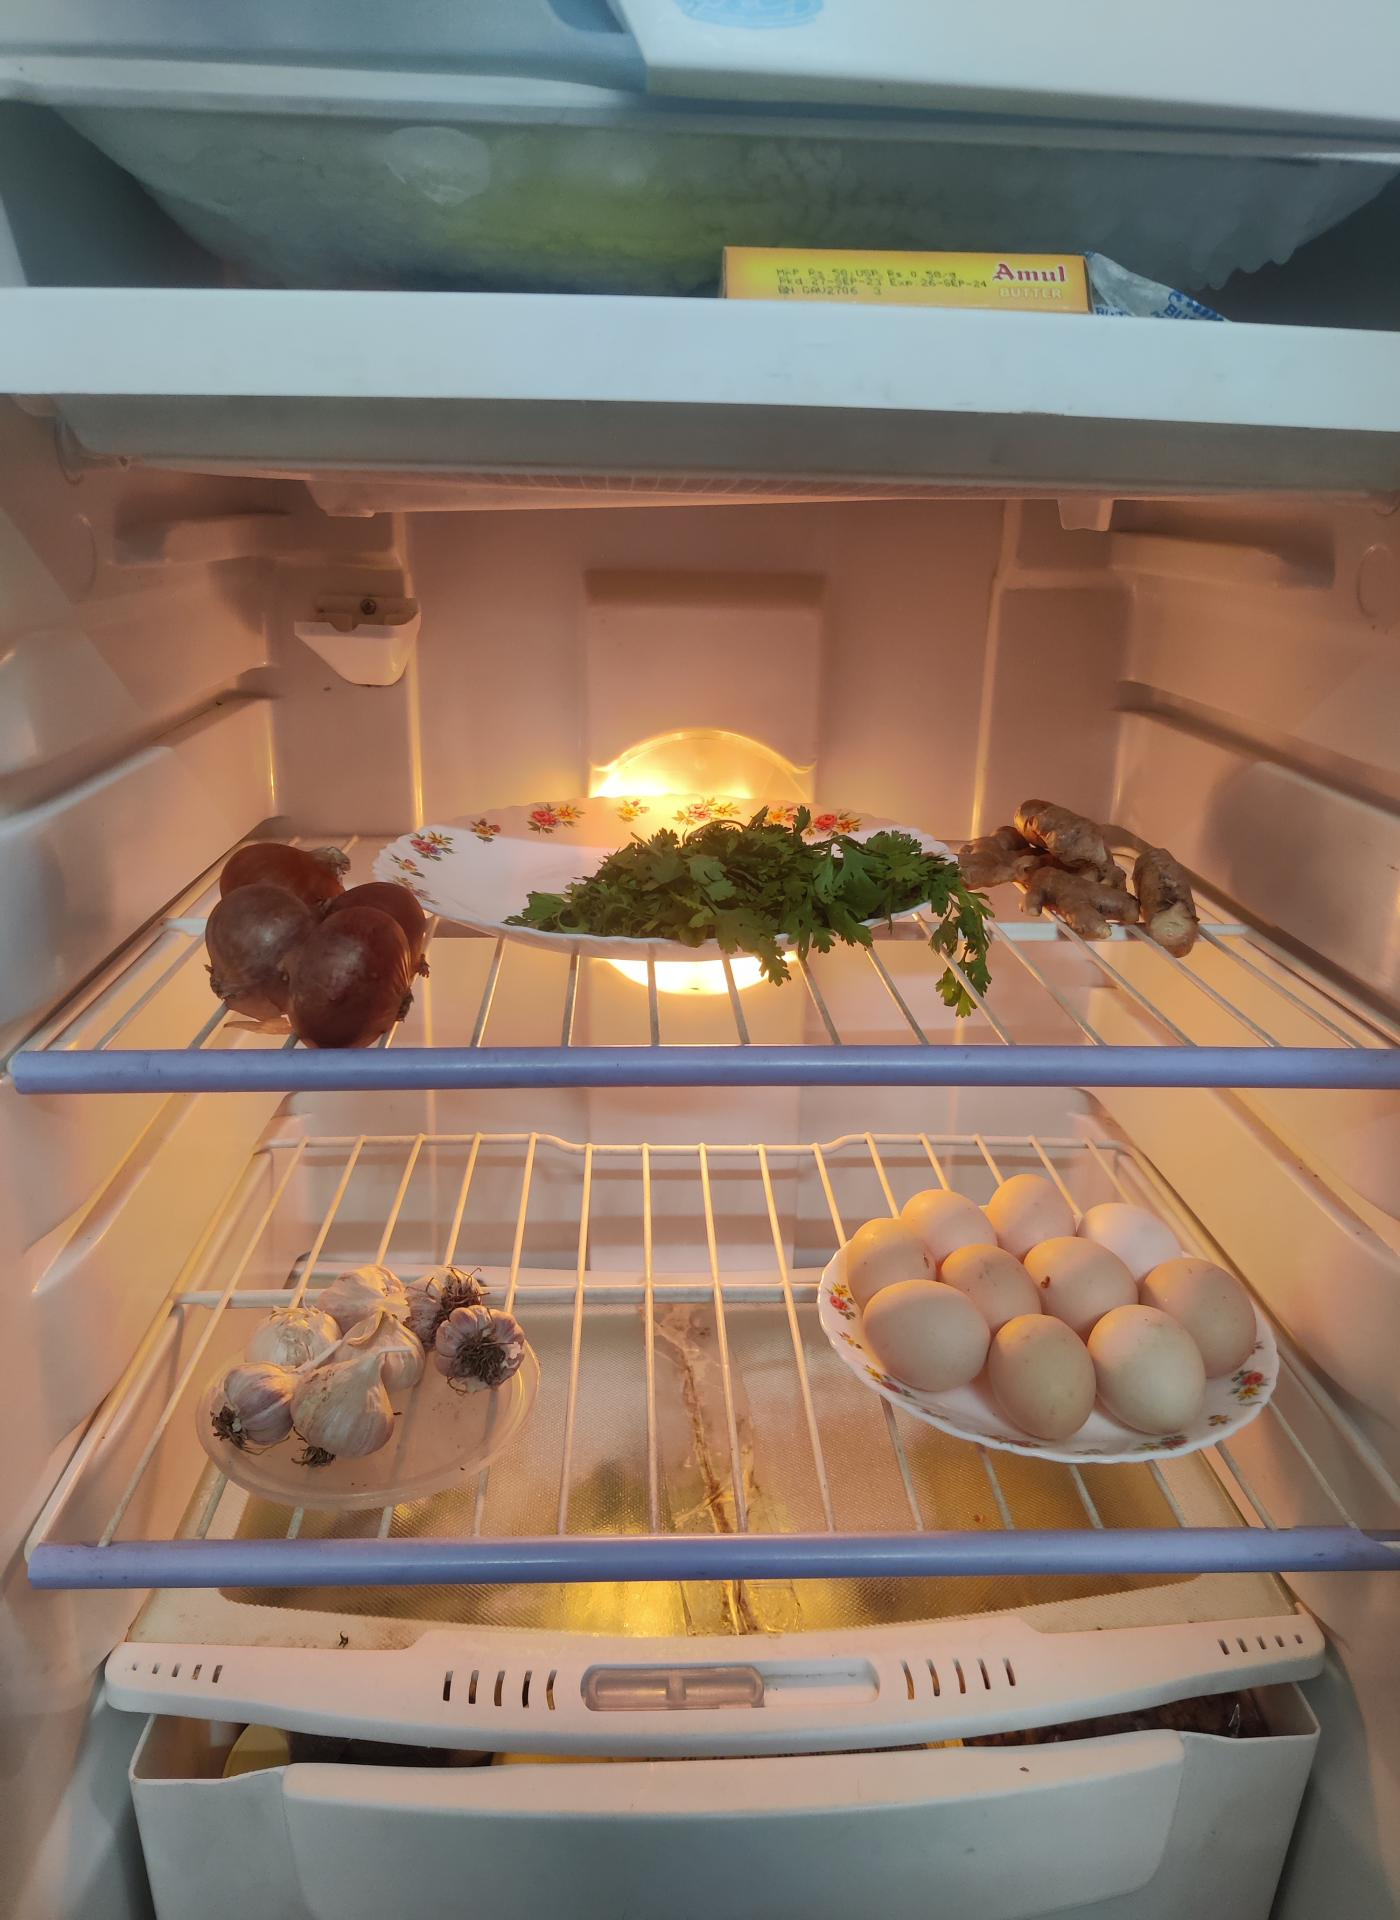coriander: (543, 812, 977, 954)
egg: (822, 1173, 1258, 1434)
ginger: (218, 1264, 535, 1449), (990, 803, 1197, 972)
onion: (204, 845, 429, 1054)
